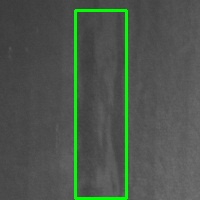inclusion: (75, 10, 126, 198)
